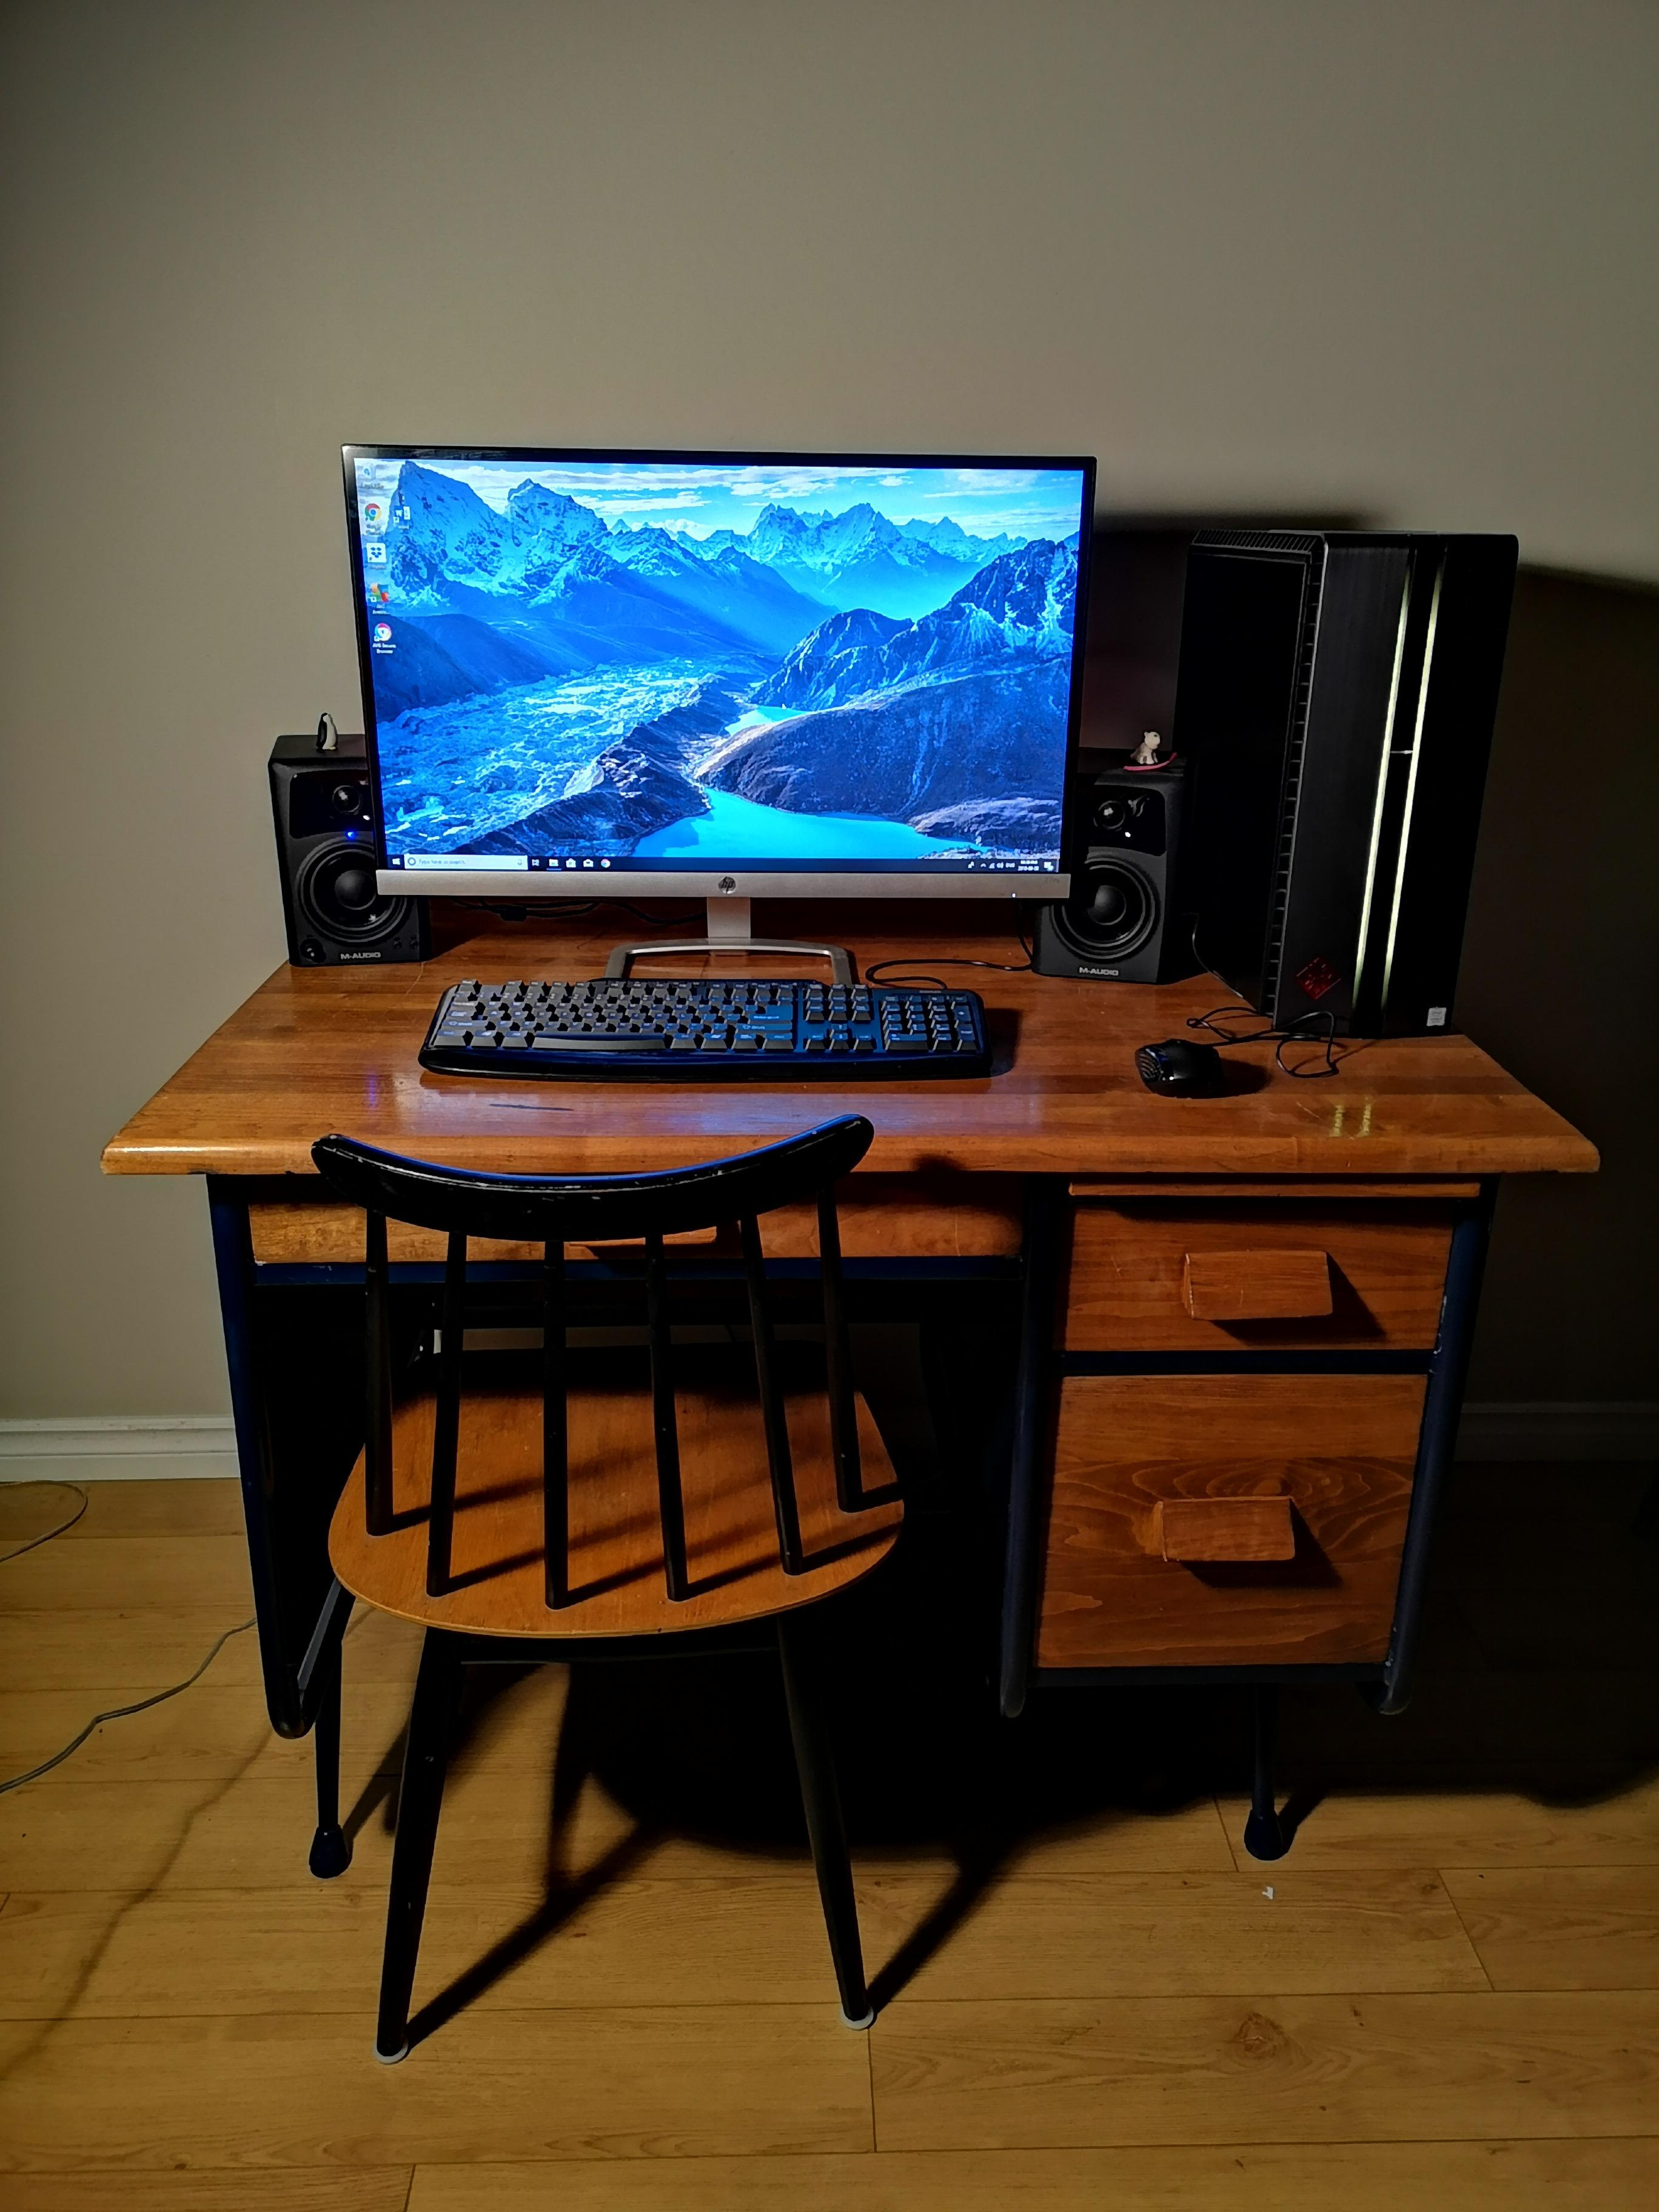Chair (Generic): (307, 1111, 913, 2059)
Decoration (Generic): (1126, 726, 1180, 777), (310, 711, 342, 744)
Desk (Generic): (106, 888, 1607, 1893)
Desktop (Windows): (1178, 524, 1511, 1049)
External Speakers (Subwoofers): (268, 735, 434, 970), (1032, 745, 1178, 984)
Keyboard (Generic): (418, 977, 997, 1089)
Monitor (Landscape): (342, 442, 1101, 907)
Mouse (Generic): (1138, 1045, 1234, 1094)
